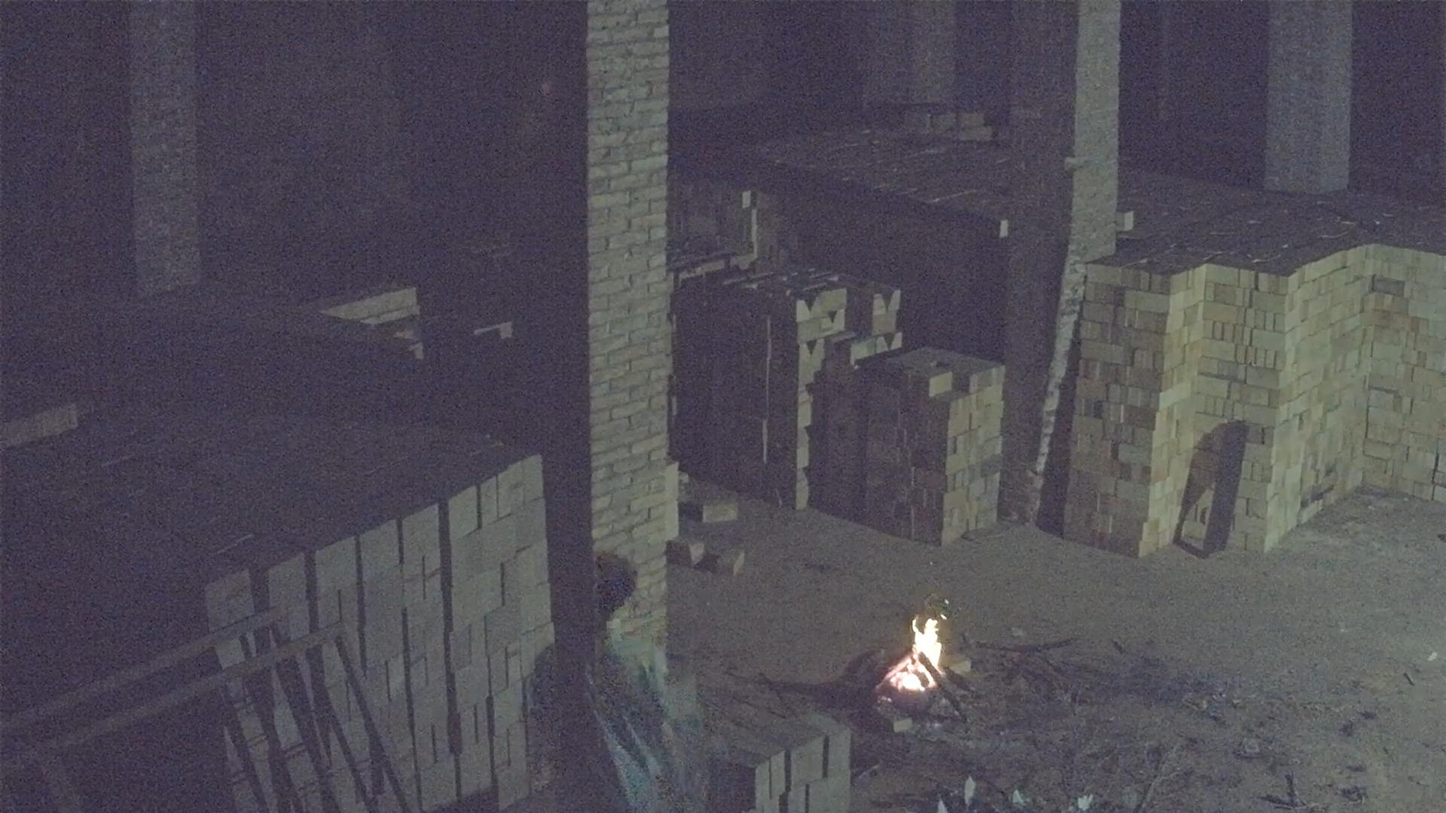fire: (882, 604, 944, 693)
